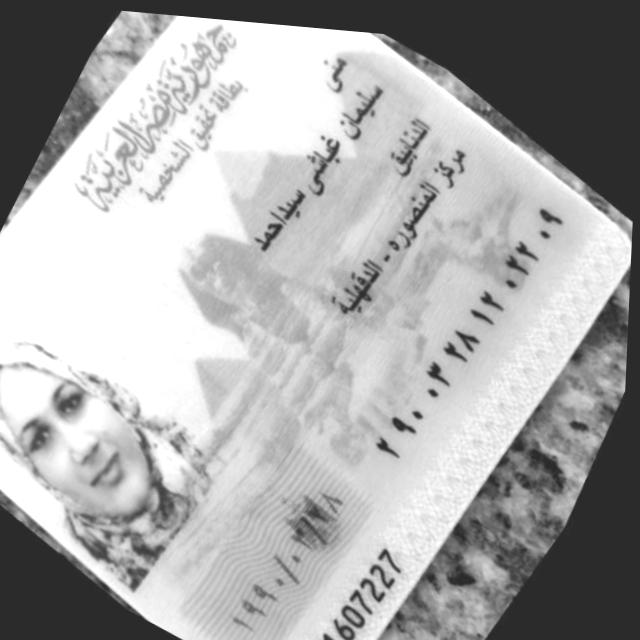id_card: (0, 16, 631, 640)
